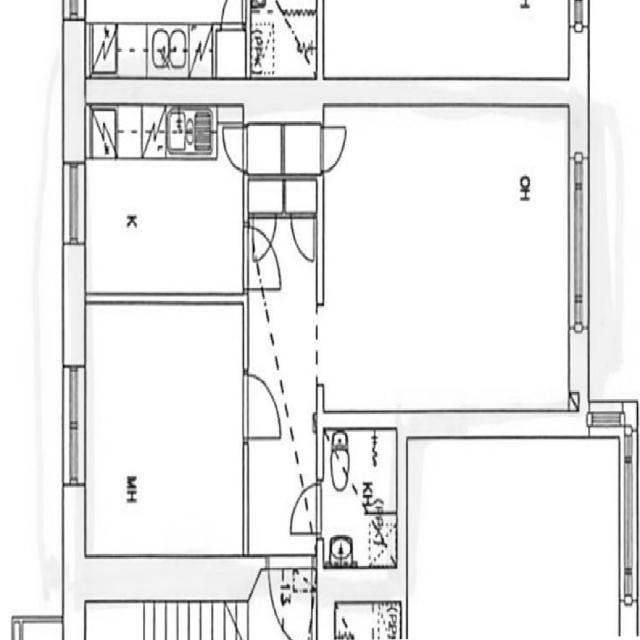door: (266, 558, 315, 640), (240, 364, 283, 444), (243, 213, 281, 291), (287, 478, 323, 540), (317, 120, 349, 174), (220, 119, 249, 174), (290, 209, 318, 264)
window: (617, 436, 639, 599)
zone: (320, 104, 573, 416), (412, 426, 628, 640), (82, 297, 247, 557), (83, 109, 250, 301), (79, 0, 259, 79), (320, 420, 398, 575), (250, 0, 317, 79), (267, 561, 317, 640)
